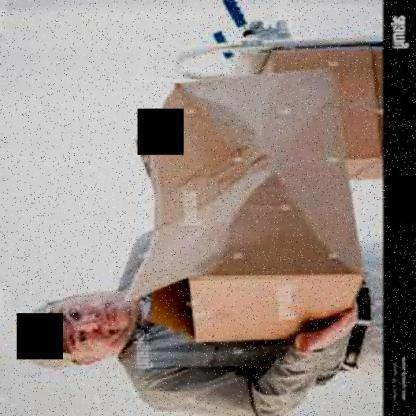-: (138, 70, 372, 348)
